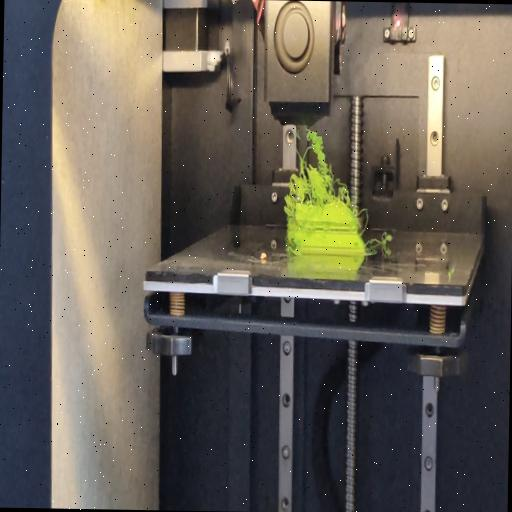spaghetti: (284, 122, 350, 206), (366, 232, 393, 246), (359, 204, 370, 234), (285, 243, 293, 255)
